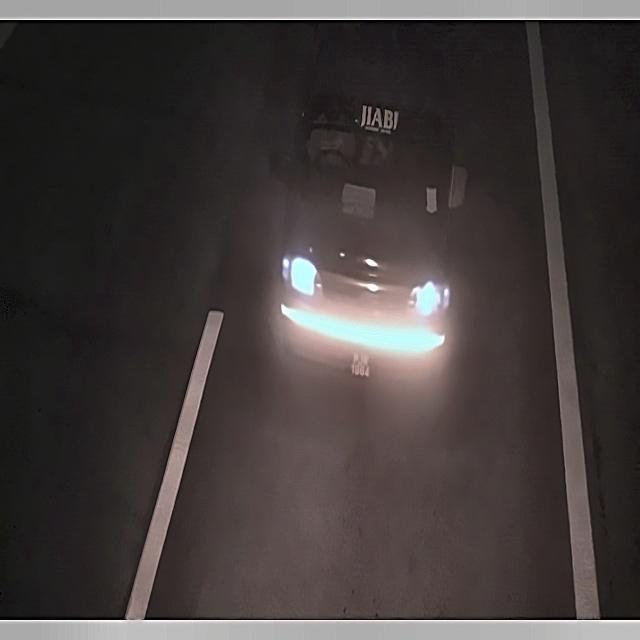car: (343, 345, 378, 384)
